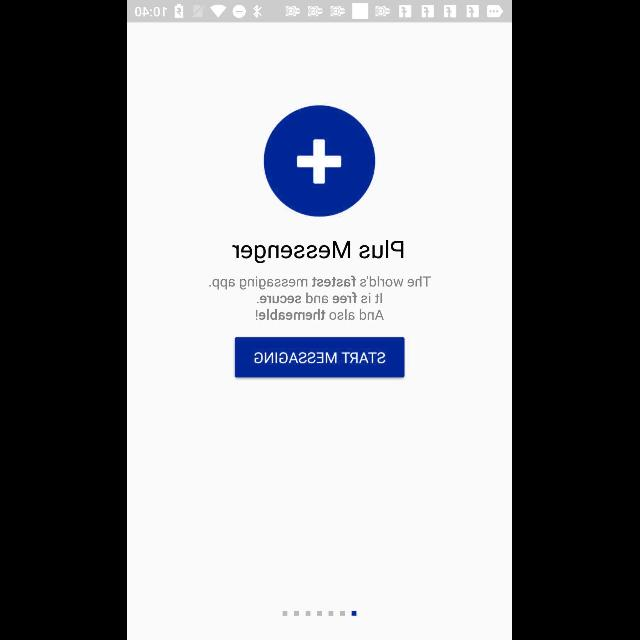icon: (264, 105, 376, 217)
pageindicator: (283, 610, 357, 616)
text: (210, 276, 432, 320), (233, 240, 404, 264)
textbutton: (235, 337, 405, 377)
uppertaskbar: (128, 1, 512, 23)
